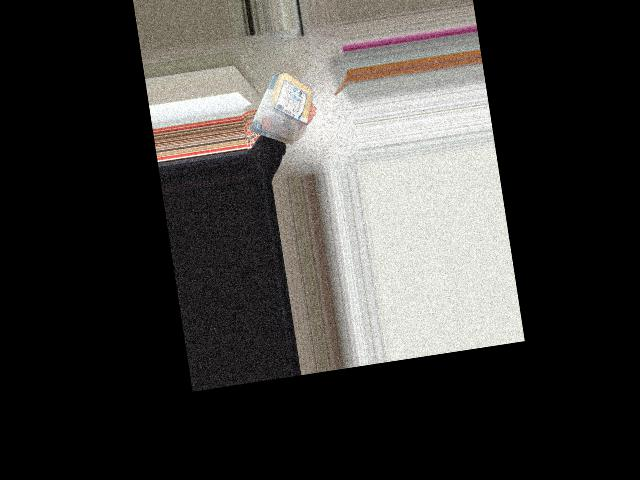cheese: (246, 64, 320, 148)
